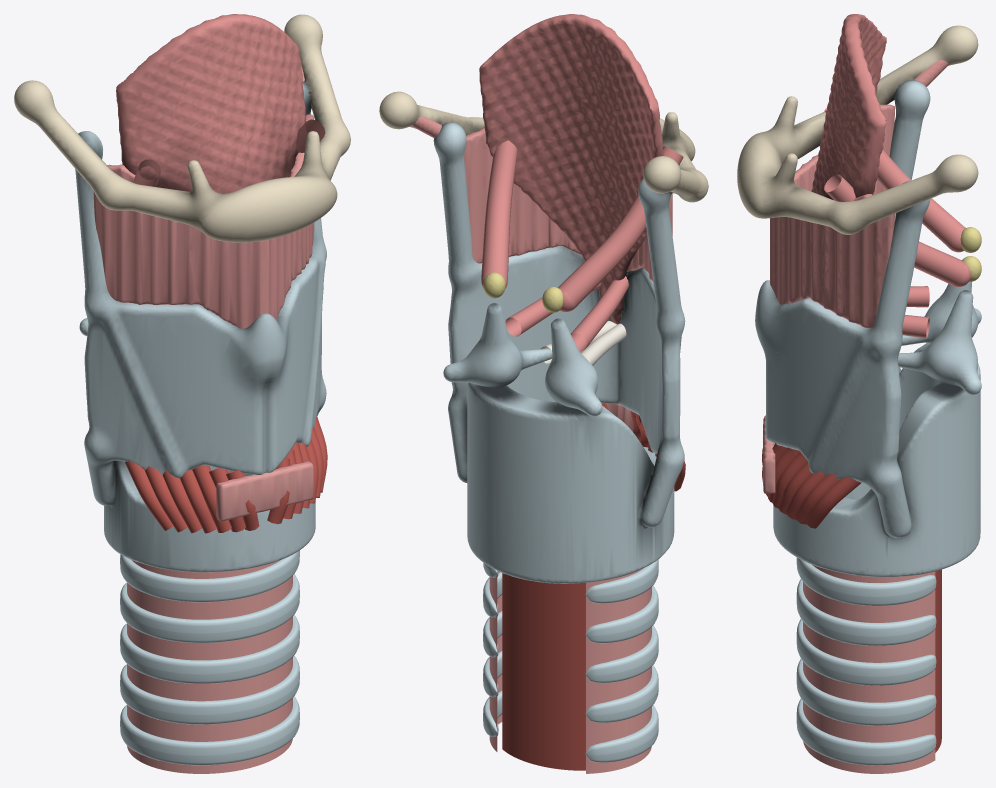
Rendered from laringe.glb.
3 views of the same model, side by side, from view 1: azimuth 30°, elevation 25°; view 2: azimuth 150°, elevation 25°; view 3: azimuth 270°, elevation 25° (orthographic). The views are drawn at different scales.
Visible parts, largest first — view 1: epiglottis, thyroid_lamina_R, thyrohyoid_membrane, annular_ligament, cricoid_arch, thyroid_lamina_L, hyoid_body, hyoid_greater_R, cricothyroid_R, tracheal_ring_4, tracheal_ring_3, tracheal_ring_5 (+12 smaller); view 2: cricoid_lamina, epiglottis, trachealis, thyroid_lamina_L, thyroid_lamina_R, annular_ligament, thyrohyoid_membrane, thyroid_sup_horn_L, thyroid_sup_horn_R, ae_fold_L, ae_fold_R, arytenoid_L (+17 smaller); view 3: thyroid_lamina_L, cricoid_lamina, thyrohyoid_membrane, annular_ligament, epiglottis, cricoid_arch, hyoid_greater_L, cricothyroid_L, thyroid_sup_horn_L, hyoid_greater_R, tracheal_ring_5, tracheal_ring_4 (+20 smaller).
Part boxes in pixels (left/top/right/bottom): epiglottis: left=116, top=14, right=306, bottom=379; thyroid_lamina_R: left=84, top=287, right=269, bottom=505; thyrohyoid_membrane: left=93, top=66, right=314, bottom=328; annular_ligament: left=127, top=560, right=292, bottom=773; cricoid_arch: left=112, top=460, right=315, bottom=572; thyroid_lamina_L: left=265, top=235, right=326, bottom=472; hyoid_body: left=197, top=172, right=337, bottom=242; hyoid_greater_R: left=14, top=80, right=204, bottom=230; cricothyroid_R: left=125, top=461, right=259, bottom=533; tracheal_ring_4: left=120, top=655, right=299, bottom=724; tracheal_ring_3: left=120, top=615, right=299, bottom=683; tracheal_ring_5: left=120, top=696, right=299, bottom=765; cricoid_lamina: left=467, top=382, right=654, bottom=583; epiglottis: left=479, top=14, right=663, bottom=324; trachealis: left=502, top=573, right=585, bottom=770; thyroid_lamina_L: left=448, top=246, right=619, bottom=413; thyroid_lamina_R: left=617, top=267, right=685, bottom=464; annular_ligament: left=489, top=568, right=651, bottom=773; thyrohyoid_membrane: left=412, top=116, right=672, bottom=286; thyroid_sup_horn_L: left=433, top=122, right=473, bottom=275; thyroid_sup_horn_R: left=638, top=178, right=684, bottom=326; ae_fold_L: left=481, top=140, right=517, bottom=289; ae_fold_R: left=558, top=146, right=683, bottom=311; arytenoid_L: left=465, top=303, right=524, bottom=387; thyroid_lamina_L: left=761, top=297, right=902, bottom=534; cricoid_lamina: left=887, top=343, right=980, bottom=576; thyrohyoid_membrane: left=770, top=60, right=948, bottom=328; annular_ligament: left=803, top=564, right=935, bottom=773; epiglottis: left=811, top=14, right=886, bottom=199; cricoid_arch: left=773, top=482, right=887, bottom=576; hyoid_greater_L: left=767, top=154, right=978, bottom=234; cricothyroid_L: left=762, top=443, right=861, bottom=528; thyroid_sup_horn_L: left=869, top=180, right=930, bottom=343; hyoid_greater_R: left=777, top=25, right=978, bottom=158; tracheal_ring_5: left=796, top=698, right=936, bottom=765; tracheal_ring_4: left=796, top=659, right=936, bottom=725.
Size of the model in its own units: 0.0482 by 0.1115 by 0.0345.
